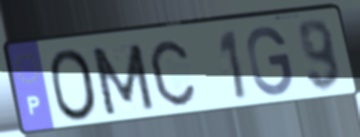1: (215, 27, 250, 104)
9: (296, 16, 344, 94)
C: (147, 37, 198, 109)
G: (244, 24, 296, 99)
M: (87, 40, 158, 118)
O: (46, 46, 102, 124)
